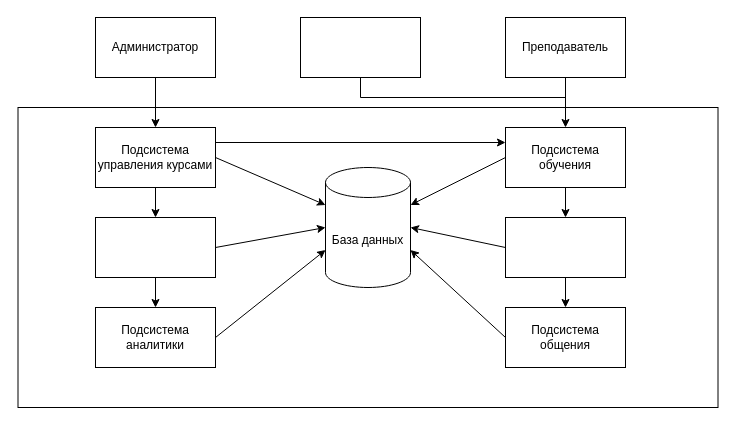
Some shapes in this 735 by 425 pixel diagram are drawn without their labels. Here are the shapes that lost their labels. From the top down, the centre of each, then its label:
At point 360,47: "Ученик".
At point 155,247: "Подсистема учета пользователей".
At point 565,247: "Подсистема тестирования".
